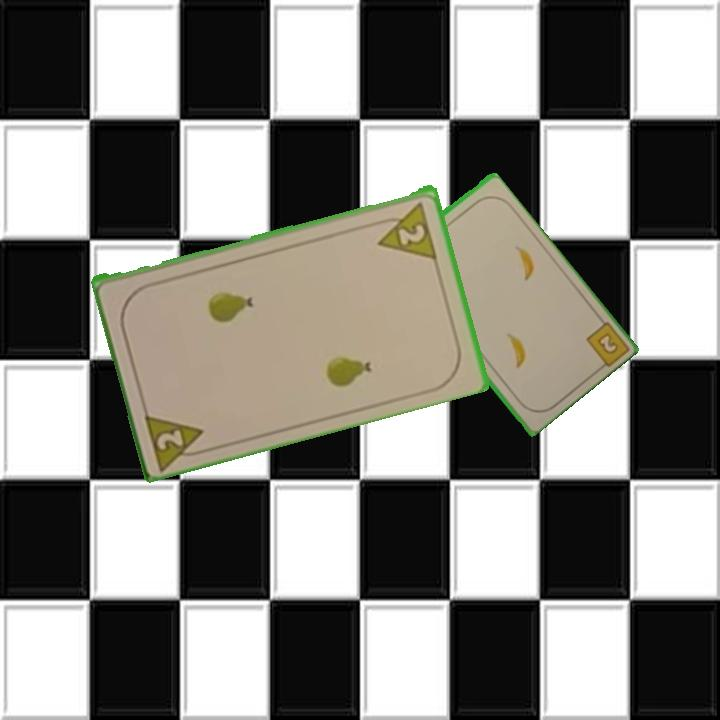2b: (593, 329, 621, 357)
2p: (140, 406, 213, 471), (370, 197, 440, 261)
